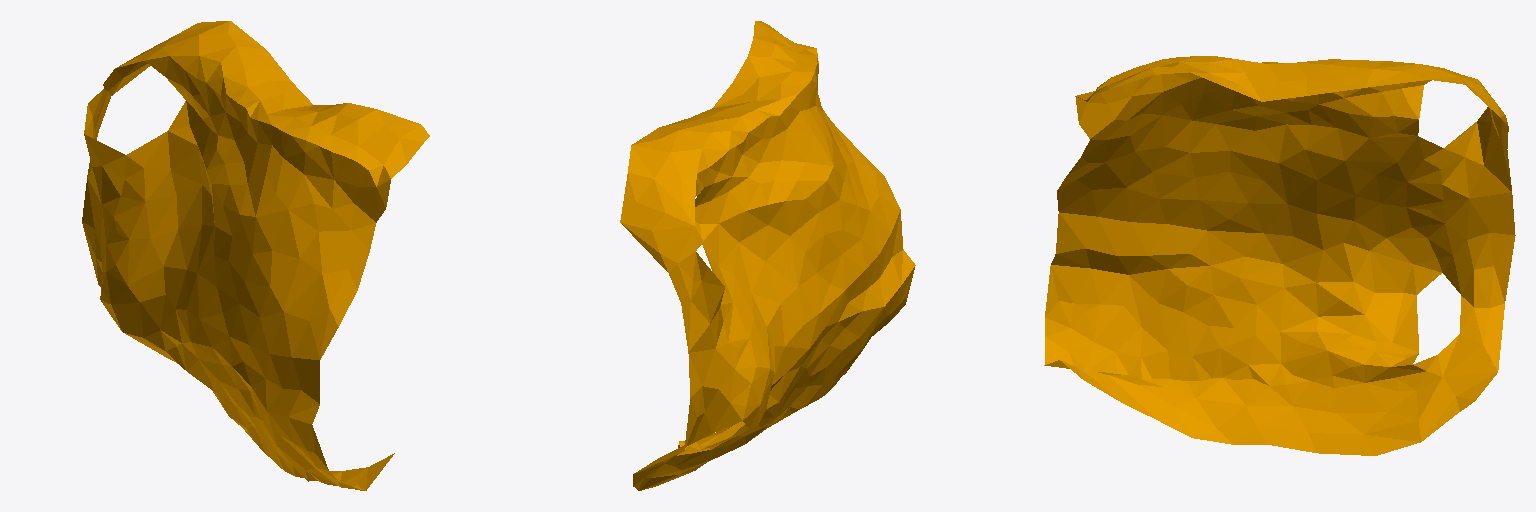
robot.urdf — init:
<?xml version='1.0' encoding='utf-8'?>
<robot name="init">
<link name="link_0"><inertial><mass value="1.0" /><origin rpy="0 0 0" xyz="0.000000 0.000000 0.000000" /><inertia ixx="1.0" ixy="0.0" ixz="0.0" iyy="1.0" iyz="0.0" izz="1.0" /></inertial><visual><origin rpy="0 0 0" xyz="0.000000 0.000000 0.000000" /><geometry><mesh filename="./clothHuman/cloth/2535.obj" /></geometry></visual><collision><origin rpy="0 0 0" xyz="0.000000 0.000000 0.000000" /><geometry><mesh filename="./clothHuman/cloth/2535.obj" /></geometry></collision></link></robot>

--- Facts derived from the render (not from the file) ---
3 views of the same robot in one strip: view 1: azimuth 30°, elevation 25°; view 2: azimuth 150°, elevation 25°; view 3: azimuth 270°, elevation 25° (orthographic).
Model init with 1 links and 0 joints (none), rooted at link_0, posed all joints at 0.
Links seen in each view (by area): view 1: link_0; view 2: link_0; view 3: link_0.
Boxes of the visible links, <box> form: link_0: <box>82,21,429,490</box>; link_0: <box>620,21,915,490</box>; link_0: <box>1044,56,1515,455</box>.
Bounding box of the posed robot: 1.52 × 3.91 × 3.56 m (x, y, z).
1 mesh visuals loaded from 1 distinct referenced files (1 OBJ).